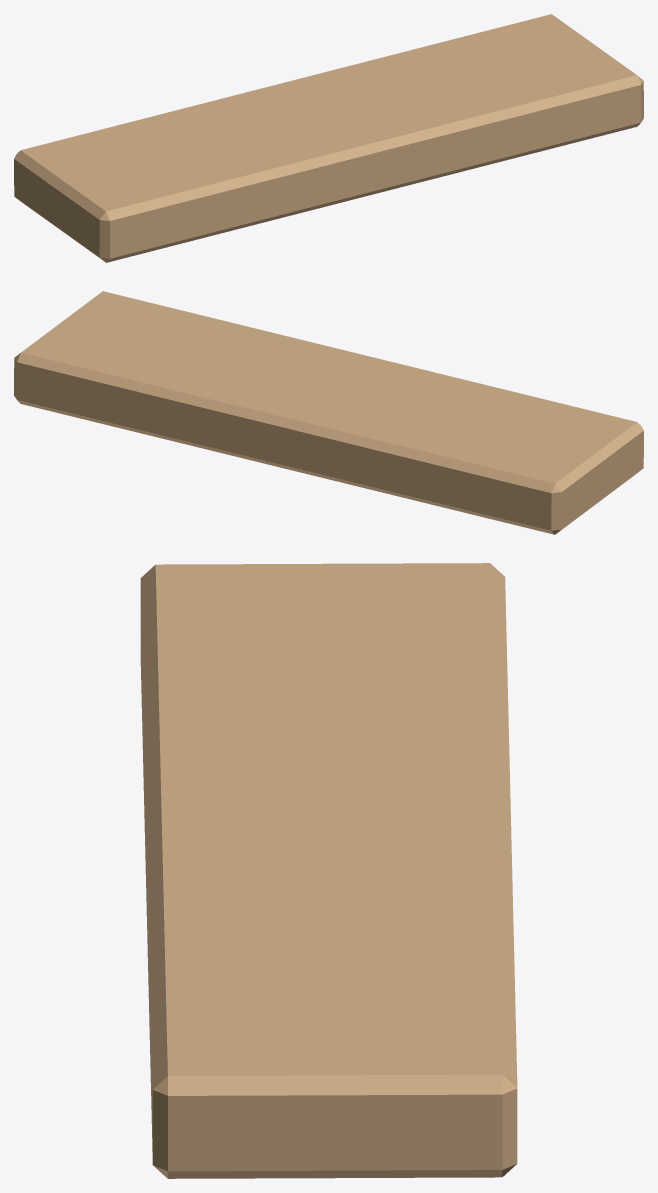
File: ponte_tabua_2.fbx
The picture shows the model from 3 angles, top to bottom: view 1: azimuth 30°, elevation 25°; view 2: azimuth 150°, elevation 25°; view 3: azimuth 270°, elevation 25°; orthographic projection. The views are drawn at different scales.
Visible parts, largest first — view 1: ponte_tabua_2~Tábua@wood; view 2: ponte_tabua_2~Tábua@wood; view 3: ponte_tabua_2~Tábua@wood.
Part boxes in pixels (x1,y1,x2,y2): ponte_tabua_2~Tábua@wood: [14, 14, 643, 262]; ponte_tabua_2~Tábua@wood: [14, 291, 643, 534]; ponte_tabua_2~Tábua@wood: [140, 563, 517, 1178].
Size of the model in its own units: 1 by 0.0963 by 0.2998.
